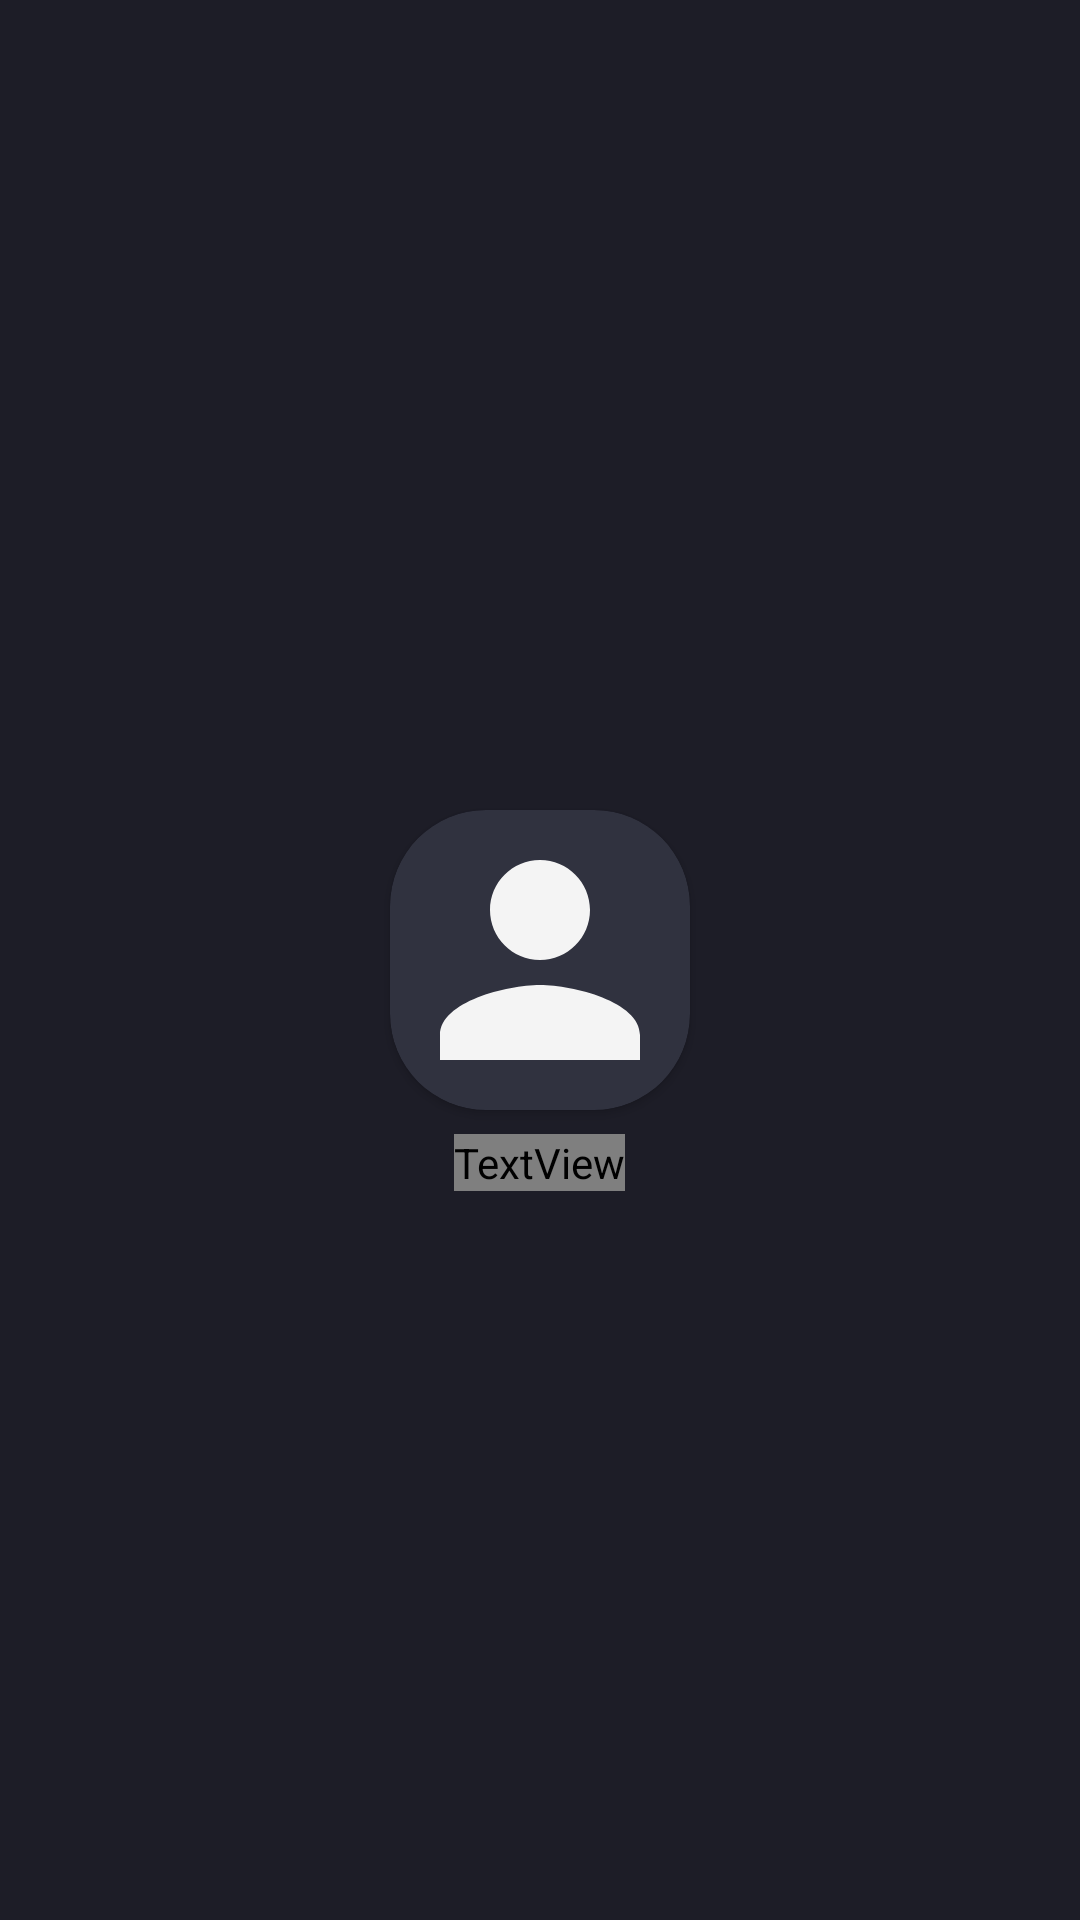

Icon click points for this 1080px×1920px phone screenshot, format [x,y]:
profile: [540,960]
